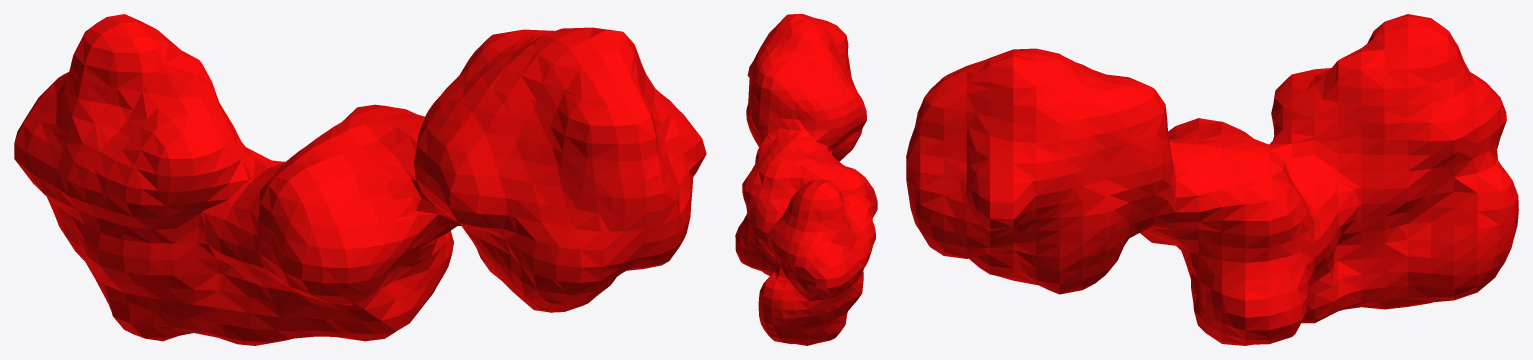
Rendered from ybbN_coarse.dae.
The picture shows the model from 3 angles, left to right: view 1: azimuth 30°, elevation 25°; view 2: azimuth 150°, elevation 25°; view 3: azimuth 270°, elevation 25°; orthographic projection. The views are drawn at different scales.
Parts seen in each view (by area): view 1: ybbN; view 2: ybbN; view 3: ybbN.
Part boxes in pixels (x1,y1,x2,y2): ybbN: (14,14,706,345); ybbN: (735,14,877,345); ybbN: (906,14,1518,345).
Bounding box in the file's own units: 65.1 × 57.27 × 89.14.
